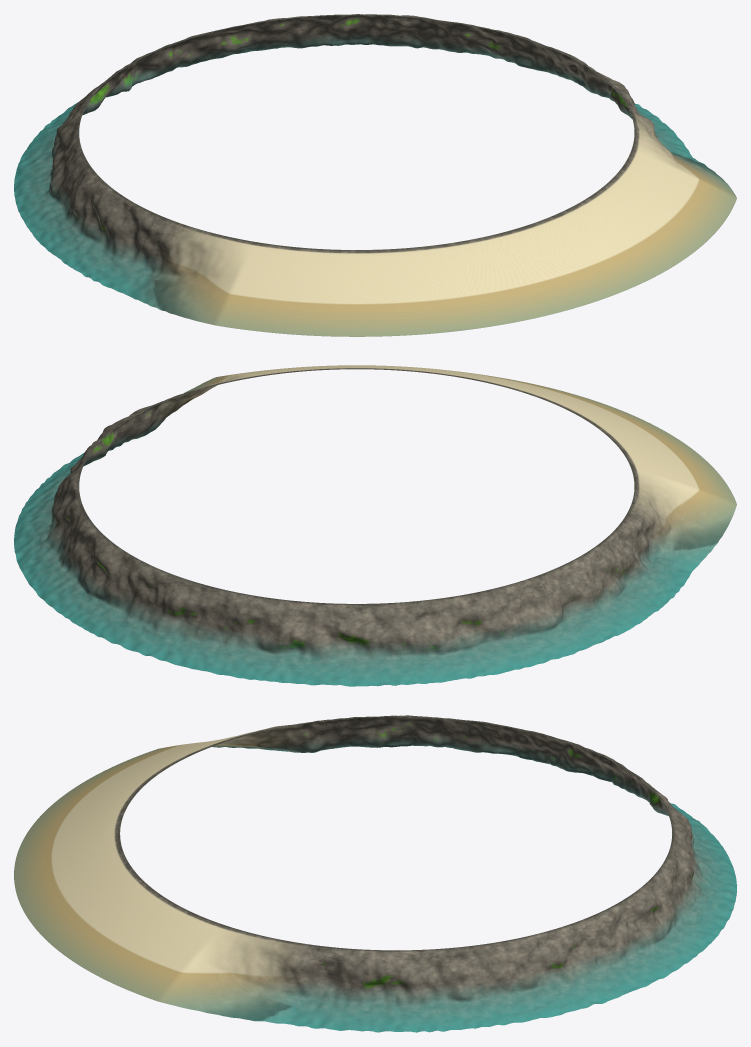
Rendered from falaise.glb.
The picture shows the model from 3 angles, top to bottom: view 1: azimuth 30°, elevation 25°; view 2: azimuth 150°, elevation 25°; view 3: azimuth 270°, elevation 25°; orthographic projection.
Parts seen in each view (by area): view 1: falaise; view 2: falaise; view 3: falaise.
Part boxes in pixels (x1,y1,x2,y2): falaise: (14,14,736,336); falaise: (14,365,736,686); falaise: (14,715,736,1032).
Bounding box in the file's own units: 57.8 × 5.21 × 61.3.
1 material, 1 textured.
